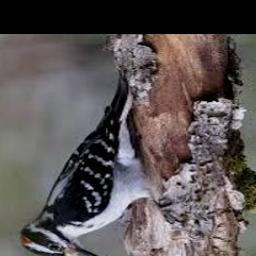Woodpecker: (21, 73, 153, 256)
